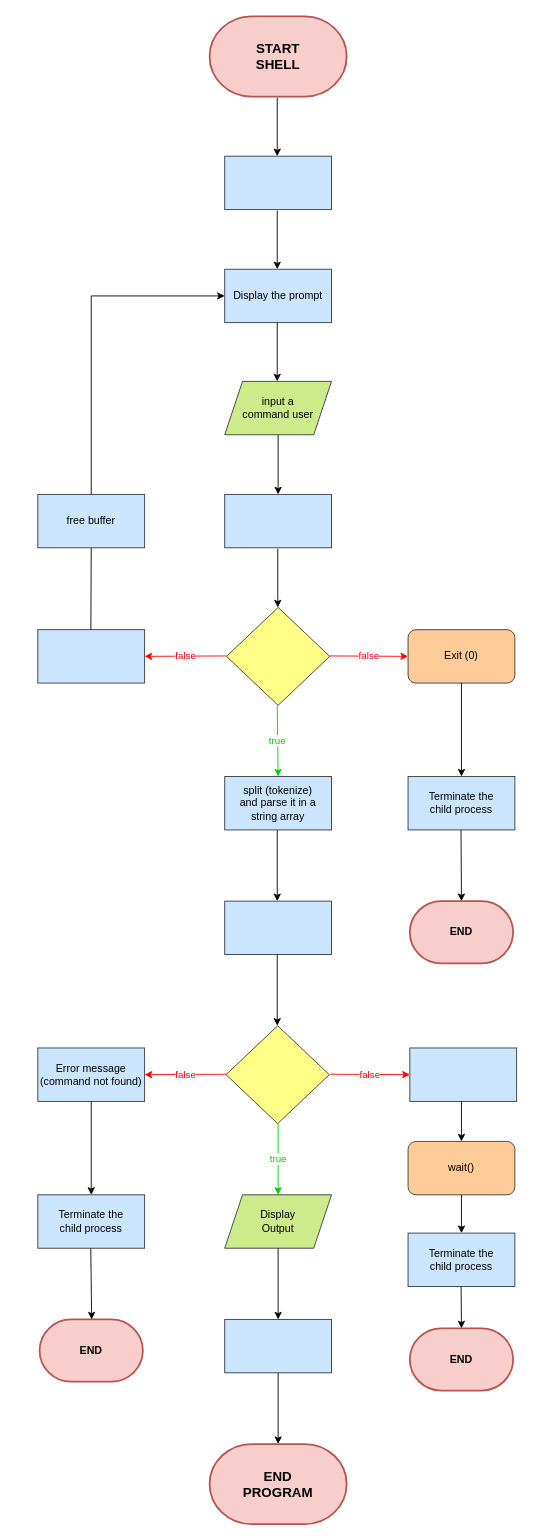
Some shapes in this 549 by 1540 pixel diagram are drawn without their labels. The box of each missing label's shape, as (x1, y1, x2, y2) in pixels:
Check if comand existe: (226, 607, 330, 705)
Error message: (37, 629, 145, 683)
Execute the fonction: (224, 900, 332, 955)
is the command execute ?: (225, 1025, 329, 1124)
loop back (display prompt): (224, 1319, 332, 1373)
main function start: (224, 155, 332, 210)
Parent process: (409, 1047, 517, 1101)
Read the command: (224, 494, 332, 548)
